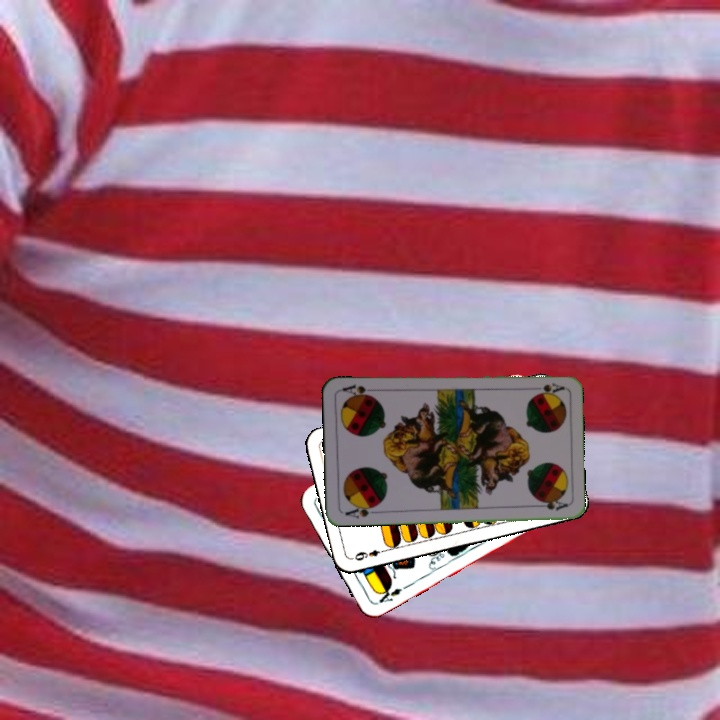E9: (351, 545, 389, 563)
EA: (373, 583, 404, 606)
SA: (342, 501, 380, 521), (534, 379, 566, 396)
